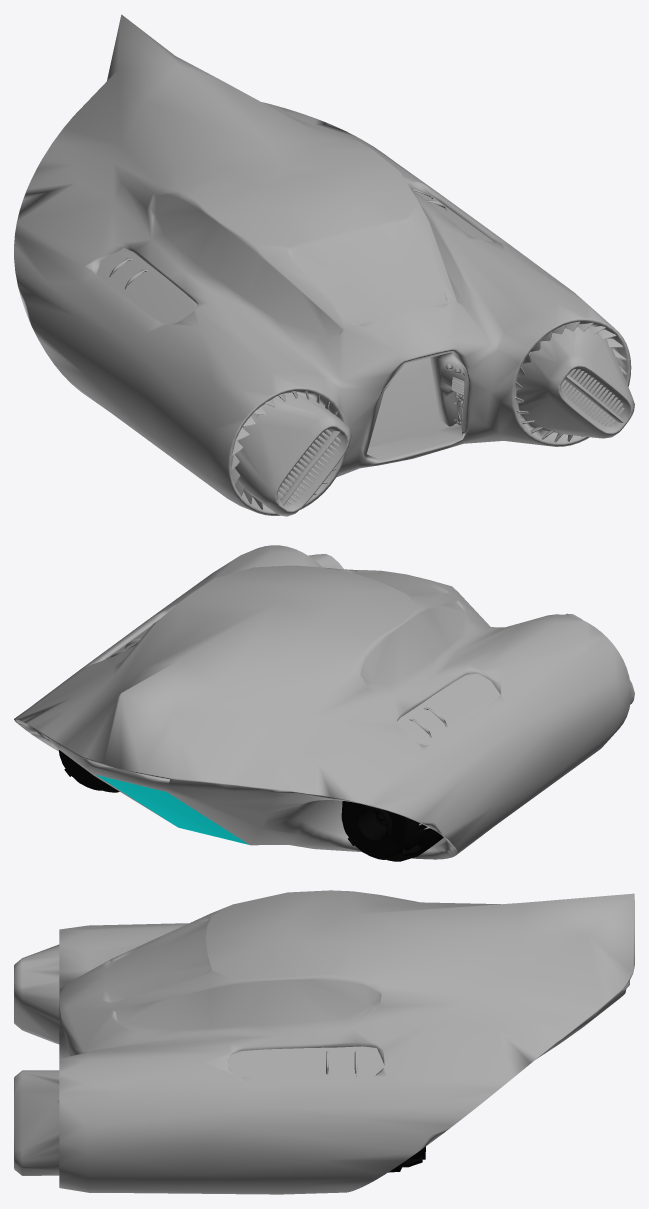
The model's file is Spaceship.fbx.
The picture shows the model from 3 angles, top to bottom: view 1: azimuth 30°, elevation 25°; view 2: azimuth 150°, elevation 25°; view 3: azimuth 270°, elevation 25°; orthographic projection. The views are drawn at different scales.
Parts seen in each view (by area): view 1: Ship:Mesh; view 2: Ship:Mesh; view 3: Ship:Mesh.
Part boxes in pixels (x1,y1,x2,y2): Ship:Mesh: (14, 14, 634, 516); Ship:Mesh: (14, 545, 634, 861); Ship:Mesh: (14, 890, 634, 1194).
Bounding box in the file's own units: 5.69 × 3.37 × 7.96.
